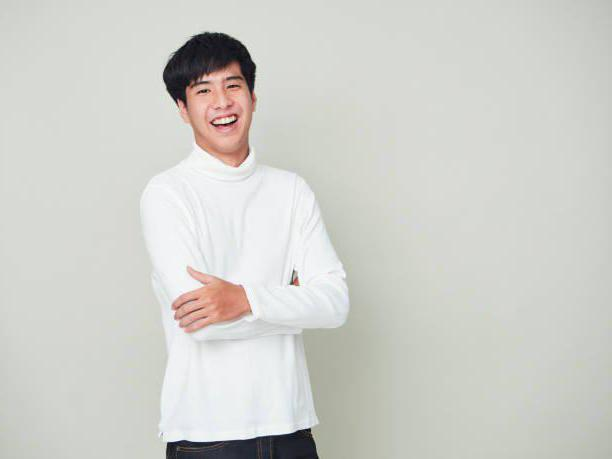Sober: (192, 63, 253, 148)
